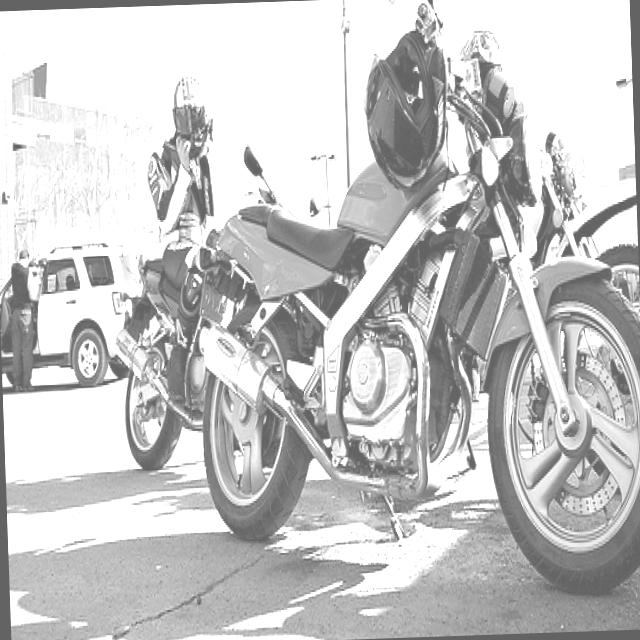Vehicle: (185, 0, 640, 604), (519, 116, 640, 493), (111, 248, 215, 474), (0, 239, 146, 390)
